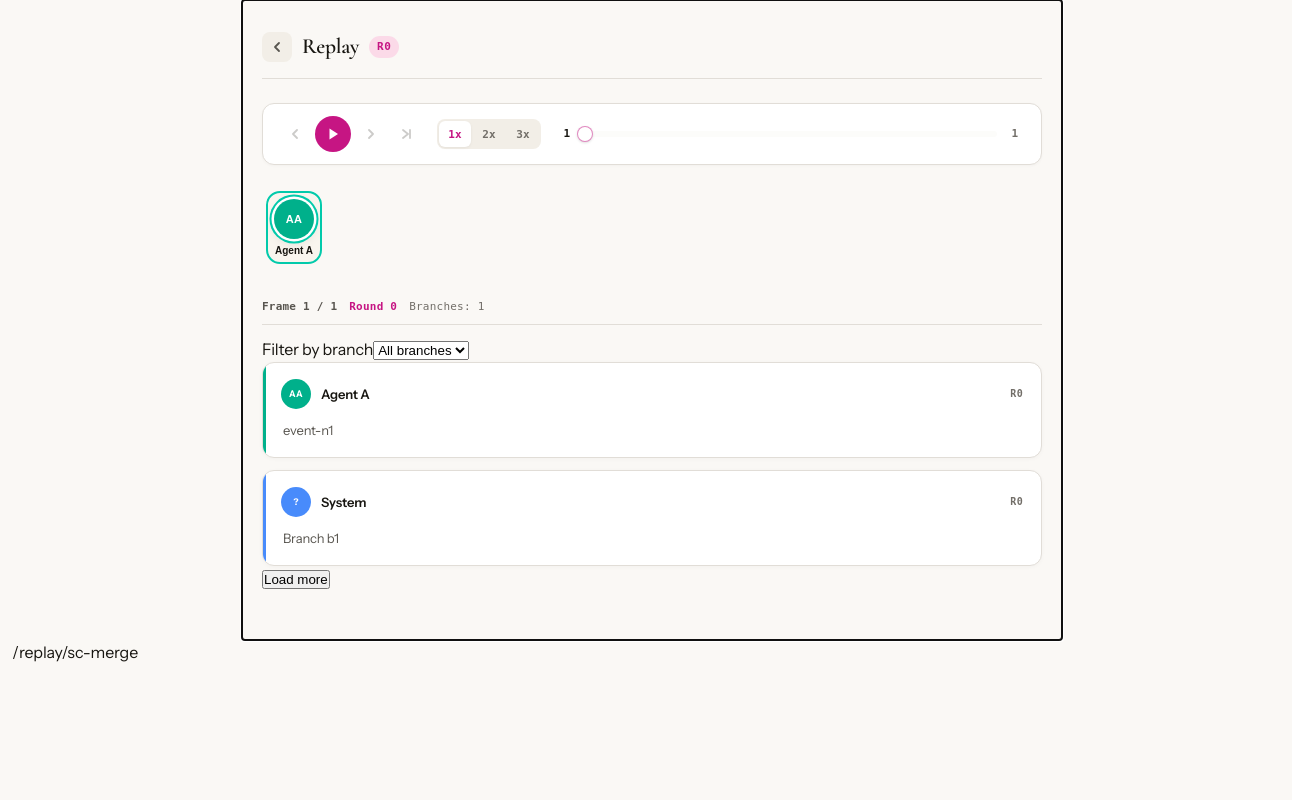
Scenario: ReplayView — pagination (cursor-based load more) › merges nodes after loading more and dedups by branch_id
expect the text "Branches: 1" is shown: met, box [409,298,484,316]
Click the button with test id "replay-load-more" at (296,580), box [262,570,330,589]
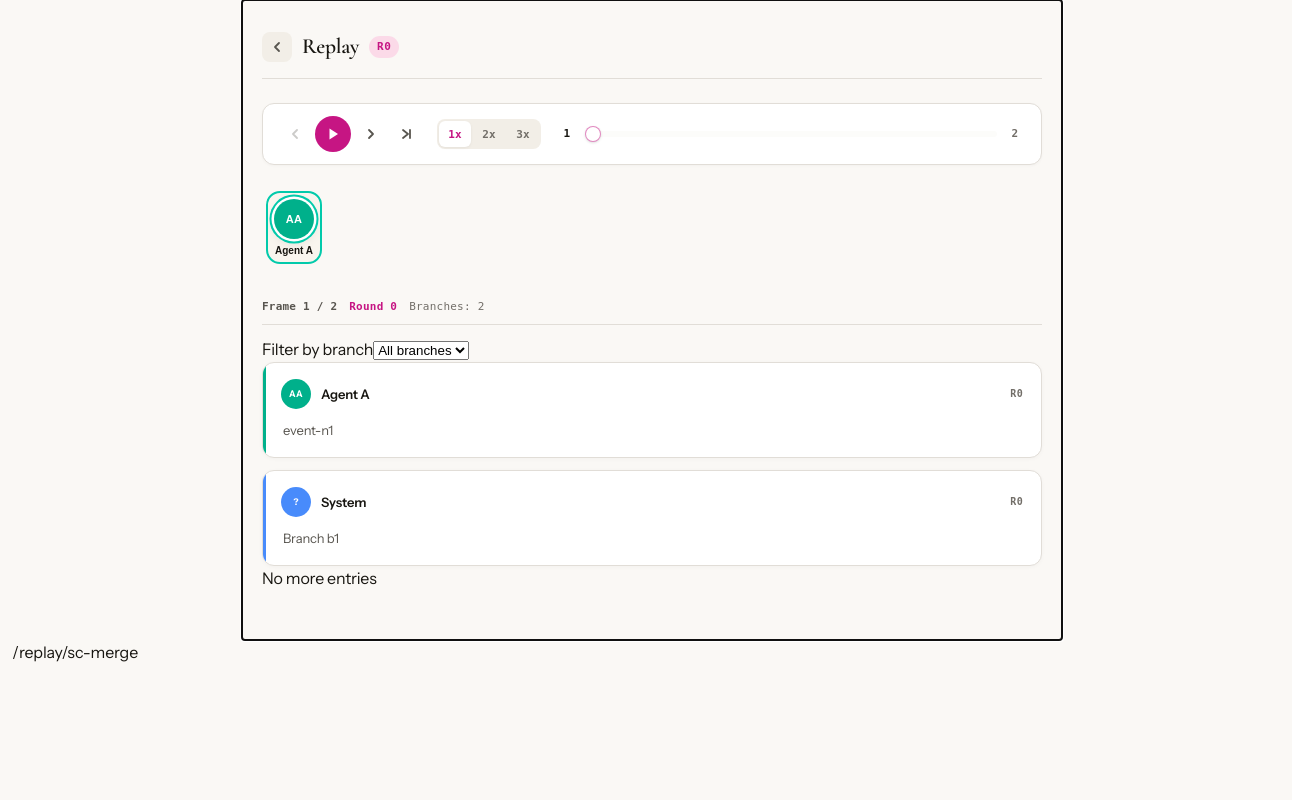
expect the text "Branches: 2" is shown: met, box [409,298,484,316]
expect the button with test id "replay-load-more" is gone: met
expect the text "No more entries" is shown: met, box [262,568,377,588]
